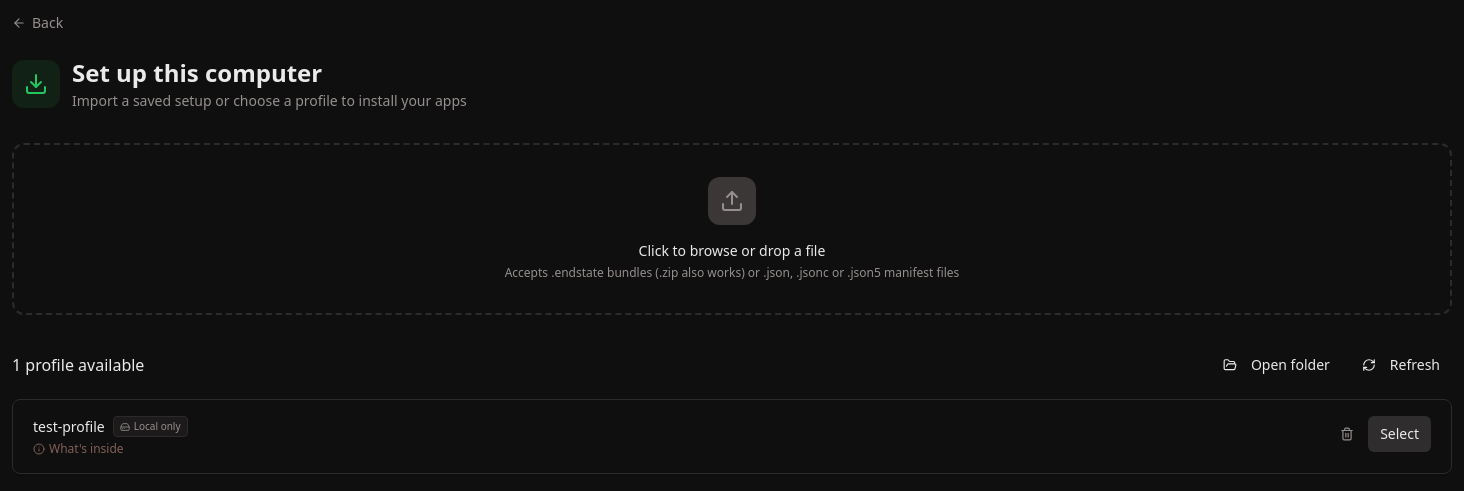
SetupFlow — per-app picker › selection defaults and affordances › select none unchecks everything and disables Apply
This screenshot has width=1464, height=491.
Click the text "test-profile": (69, 426) x1=33 y1=416 x2=105 y2=436
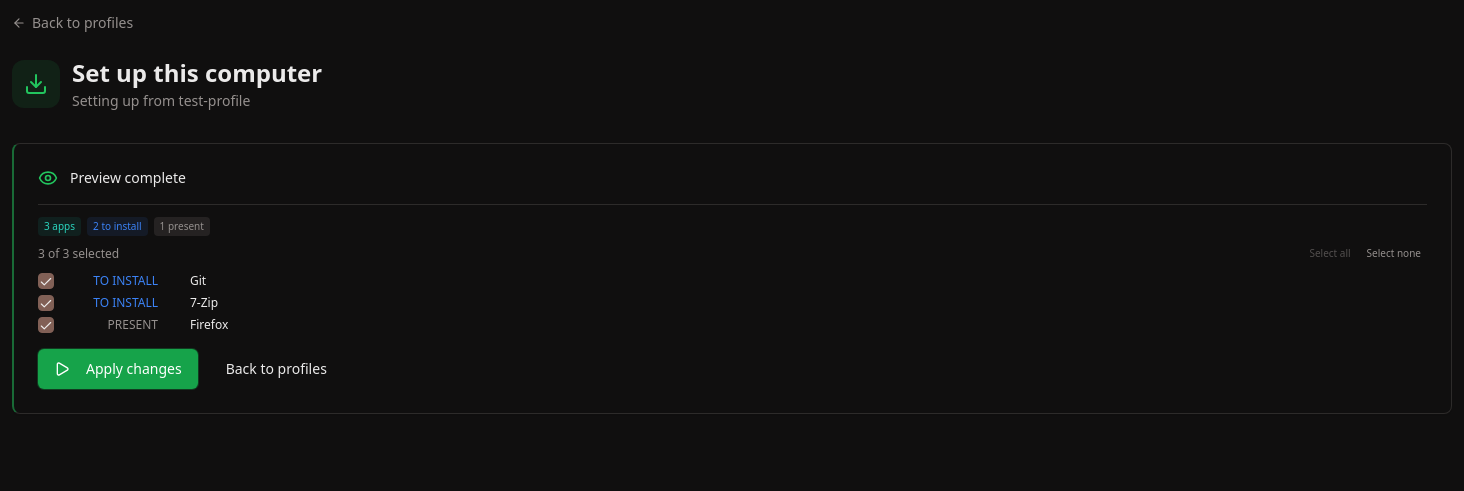
Expected: the button with test id "setup-flow-apply" is shown, x1=38 y1=349 x2=198 y2=389
Click the button with test id "app-picker-select-none": (1394, 254) x1=1361 y1=244 x2=1427 y2=263
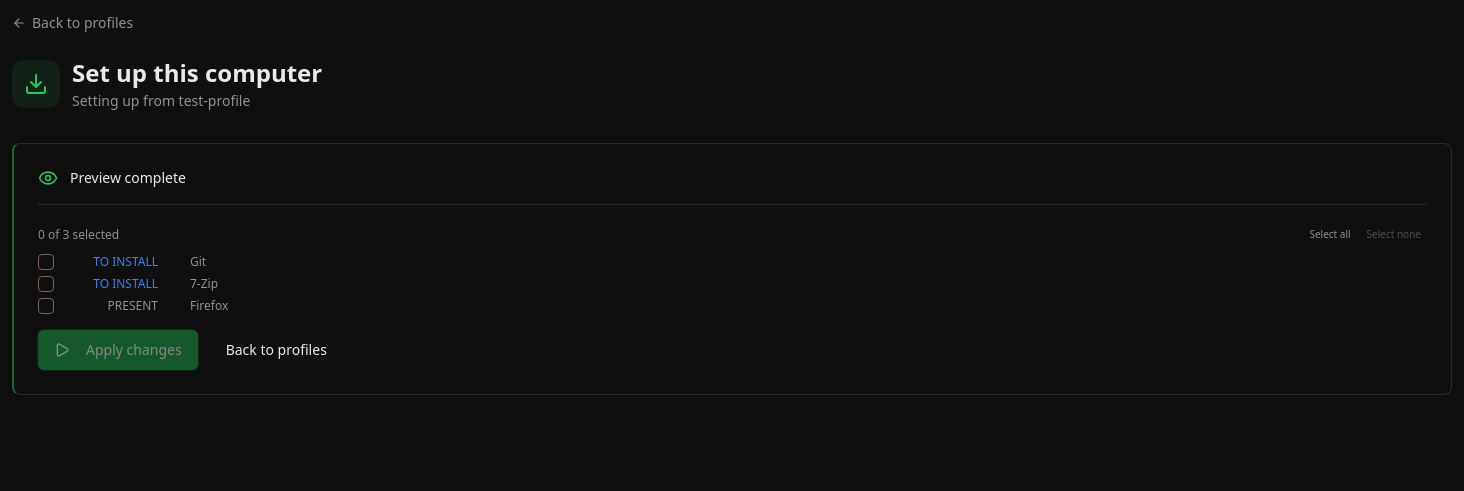
Expected: the text with test id "app-picker-count" reads "0 of 3 selected", x1=38 y1=226 x2=119 y2=242
Expected: the checkbox with test id "app-picker-checkbox-git-git" is not checked, x1=38 y1=254 x2=54 y2=270
Expected: the button with test id "setup-flow-apply" is disabled, x1=38 y1=330 x2=198 y2=370
